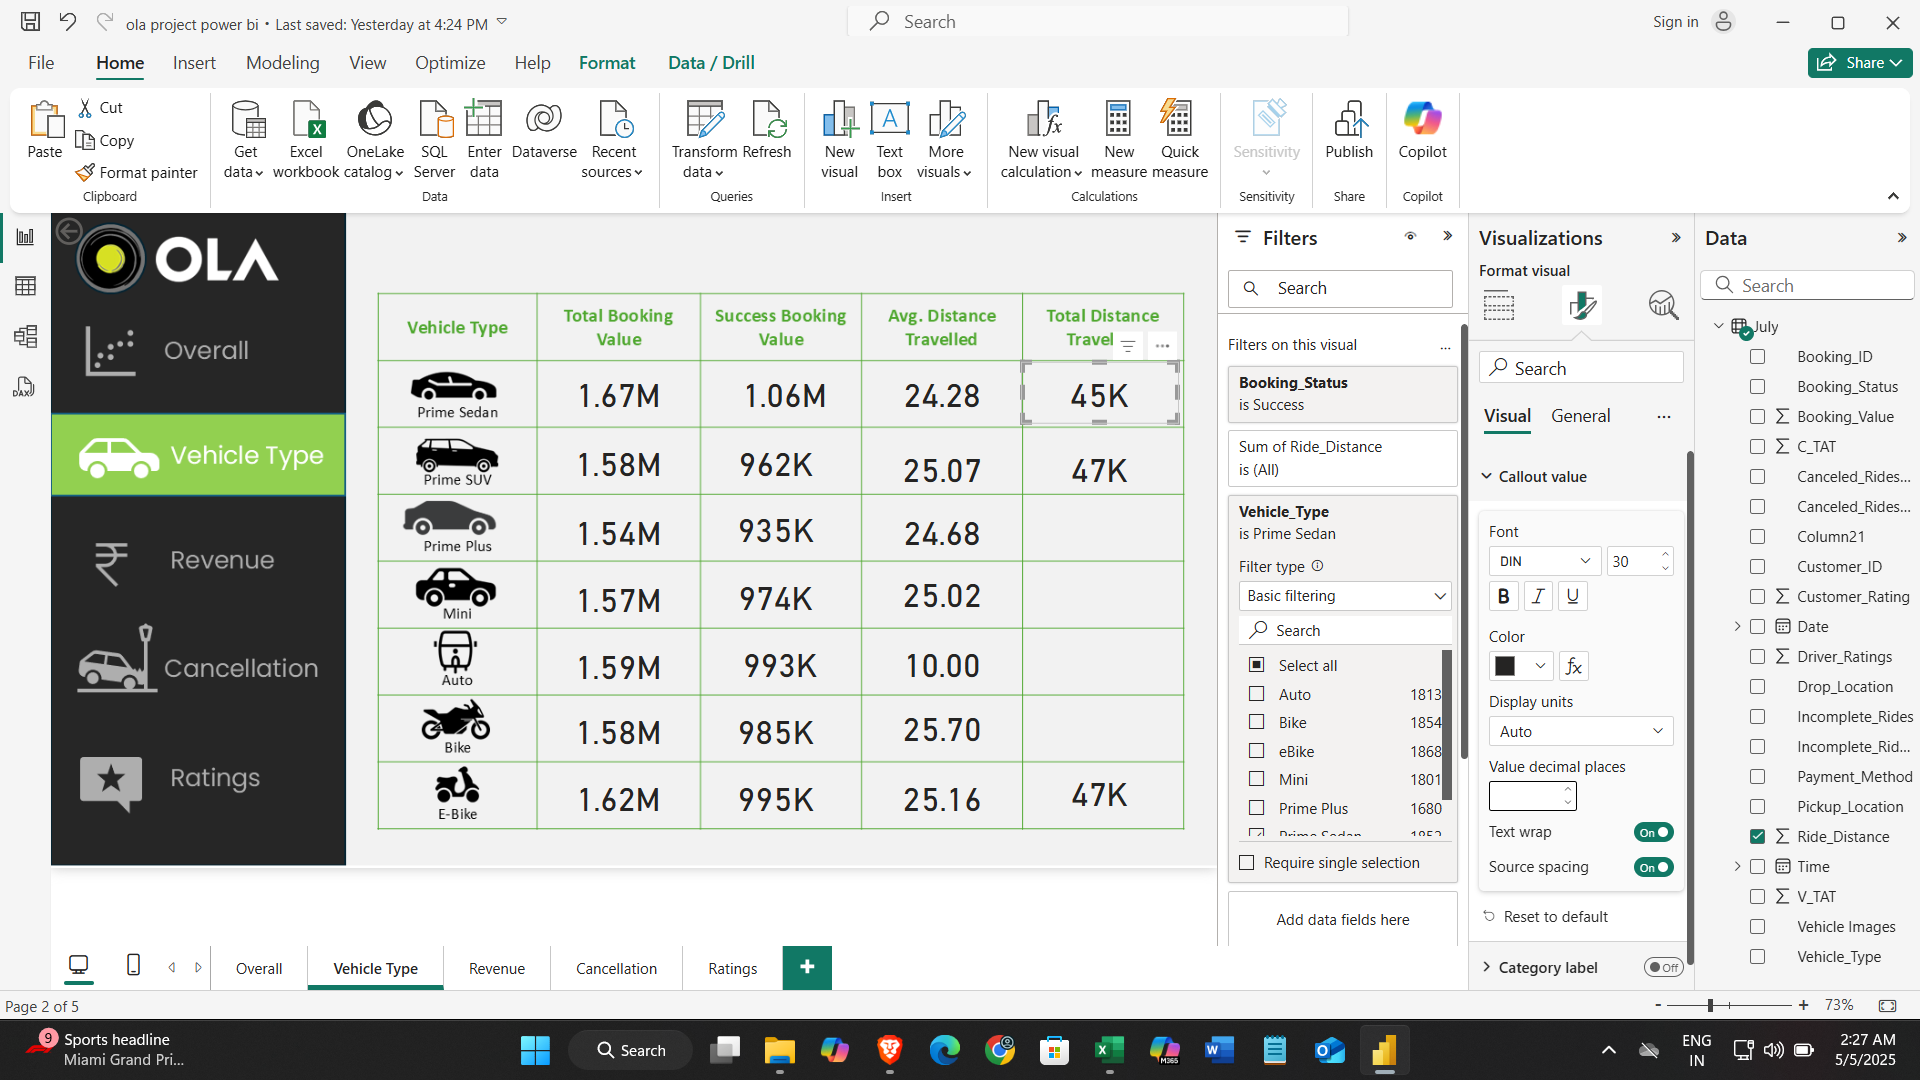

What the dashboard file says about the page in this screenshot:
{"tool":"powerbi","page":{"name":"Vehicle Type","canvas":[1280,720],"ordinal":1},"visuals":[{"type":"actionButton","box":[0,350,326.2,88.8],"z":0},{"type":"actionButton","box":[0,438.8,326.2,112.5],"z":1000},{"type":"actionButton","box":[0,580,326.2,88.8],"z":2000},{"type":"card","fields":{"Values":["Sum(July.Booking_Value)"]},"box":[536.5,163.3,172.9,68.6],"z":3000},{"type":"card","fields":{"Values":["Sum(July.Booking_Value)"]},"box":[536.5,314.2,172.9,68.6],"z":4000},{"type":"card","fields":{"Values":["Sum(July.Booking_Value)"]},"box":[536.5,382.8,172.9,78.2],"z":5000},{"type":"card","fields":{"Values":["Sum(July.Booking_Value)"]},"box":[536.5,461.1,172.9,68.6],"z":6000},{"type":"card","fields":{"Values":["Sum(July.Booking_Value)"]},"box":[536.5,532.4,172.9,68.6],"z":7000},{"type":"card","fields":{"Values":["Sum(July.Booking_Value)"]},"box":[536.5,601,172.9,79.6],"z":8000},{"type":"card","fields":{"Values":["Sum(July.Booking_Value)"]},"box":[536.5,231.9,172.9,82.3],"z":9000},{"type":"card","fields":{"Values":["Sum(July.Booking_Value)"]},"box":[719,163.3,172.9,68.6],"z":10000},{"type":"card","fields":{"Values":["Sum(July.Booking_Value)"]},"box":[709.4,238.8,172.9,68.6],"z":11000},{"type":"card","fields":{"Values":["Sum(July.Booking_Value)"]},"box":[709.4,307.4,172.9,76.8],"z":12000},{"type":"card","fields":{"Values":["Sum(July.Booking_Value)"]},"box":[709.4,382.8,172.9,74.1],"z":13000},{"type":"card","fields":{"Values":["Sum(July.Booking_Value)"]},"box":[709.4,456.9,182.5,72.7],"z":14000},{"type":"card","fields":{"Values":["Sum(July.Booking_Value)"]},"box":[709.4,532.4,172.9,68.6],"z":15000},{"type":"card","fields":{"Values":["Sum(July.Booking_Value)"]},"box":[709.4,601,172.9,79.6],"z":16000},{"type":"card","fields":{"Values":["Avg(July.Ride_Distance)"]},"box":[891.9,163.3,172.9,68.6],"z":17000},{"type":"actionButton","box":[0,118,326.6,89.2],"z":18000},{"type":"actionButton","box":[0,0,100,40],"z":19000},{"type":"card","fields":{"Values":["Avg(July.Ride_Distance)"]},"box":[891.9,314.2,172.9,68.6],"z":20000},{"type":"card","fields":{"Values":["Avg(July.Ride_Distance)"]},"box":[891.9,382.8,172.9,68.6],"z":21000},{"type":"card","fields":{"Values":["Avg(July.Ride_Distance)"]},"box":[891.9,459.7,172.9,68.6],"z":22000},{"type":"card","fields":{"Values":["Avg(July.Ride_Distance)"]},"box":[891.9,529.7,172.9,68.6],"z":23000},{"type":"card","fields":{"Values":["Avg(July.Ride_Distance)"]},"box":[891.9,606.5,172.9,68.6],"z":24000},{"type":"card","fields":{"Values":["Avg(July.Ride_Distance)"]},"box":[891.9,245.6,172.9,68.6],"z":25000},{"type":"card","fields":{"Values":["Sum(July.Ride_Distance)"]},"box":[1064.8,601,172.9,68.6],"z":26000},{"type":"card","fields":{"Values":["Sum(July.Ride_Distance)"]},"box":[1064.8,245.6,172.9,68.6],"z":27000},{"type":"card","fields":{"Values":["Sum(July.Ride_Distance)"]},"box":[1064.8,163.3,182.5,68.6],"z":28000},{"type":"card","fields":{"Values":["Sum(July.Ride_Distance)"]},"box":[1064.8,307.4,172.9,68.6],"z":29000},{"type":"card","fields":{"Values":["Sum(July.Ride_Distance)"]},"box":[1064.8,382.8,172.9,68.6],"z":30000},{"type":"card","fields":{"Values":["Sum(July.Ride_Distance)"]},"box":[1064.8,461.1,172.9,68.6],"z":31000},{"type":"card","fields":{"Values":["Sum(July.Ride_Distance)"]},"box":[1064.8,529.7,172.9,68.6],"z":32000},{"type":"slicer","title":"Date","fields":{"Values":["July.Date"]},"box":[953.7,0,284,81],"z":33000}]}

Visuals, with their boxes on the page's 1280x720 design canvas (x1, y1, x2, y2). These are canvas units, not pixel positions in the 1920x1080 screenshot, which may show the page scaled, cropped or inside an application window:
actionButton: 0,350,326,439
actionButton: 0,439,326,551
actionButton: 0,580,326,669
card - Sum(July.Booking_Value): 536,163,709,232
card - Sum(July.Booking_Value): 536,314,709,383
card - Sum(July.Booking_Value): 536,383,709,461
card - Sum(July.Booking_Value): 536,461,709,530
card - Sum(July.Booking_Value): 536,532,709,601
card - Sum(July.Booking_Value): 536,601,709,681
card - Sum(July.Booking_Value): 536,232,709,314
card - Sum(July.Booking_Value): 719,163,892,232
card - Sum(July.Booking_Value): 709,239,882,307
card - Sum(July.Booking_Value): 709,307,882,384
card - Sum(July.Booking_Value): 709,383,882,457
card - Sum(July.Booking_Value): 709,457,892,530
card - Sum(July.Booking_Value): 709,532,882,601
card - Sum(July.Booking_Value): 709,601,882,681
card - Avg(July.Ride_Distance): 892,163,1065,232
actionButton: 0,118,327,207
actionButton: 0,0,100,40
card - Avg(July.Ride_Distance): 892,314,1065,383
card - Avg(July.Ride_Distance): 892,383,1065,451
card - Avg(July.Ride_Distance): 892,460,1065,528
card - Avg(July.Ride_Distance): 892,530,1065,598
card - Avg(July.Ride_Distance): 892,606,1065,675
card - Avg(July.Ride_Distance): 892,246,1065,314
card - Sum(July.Ride_Distance): 1065,601,1238,670
card - Sum(July.Ride_Distance): 1065,246,1238,314
card - Sum(July.Ride_Distance): 1065,163,1247,232
card - Sum(July.Ride_Distance): 1065,307,1238,376
card - Sum(July.Ride_Distance): 1065,383,1238,451
card - Sum(July.Ride_Distance): 1065,461,1238,530
card - Sum(July.Ride_Distance): 1065,530,1238,598
"Date" slicer: 954,0,1238,81
